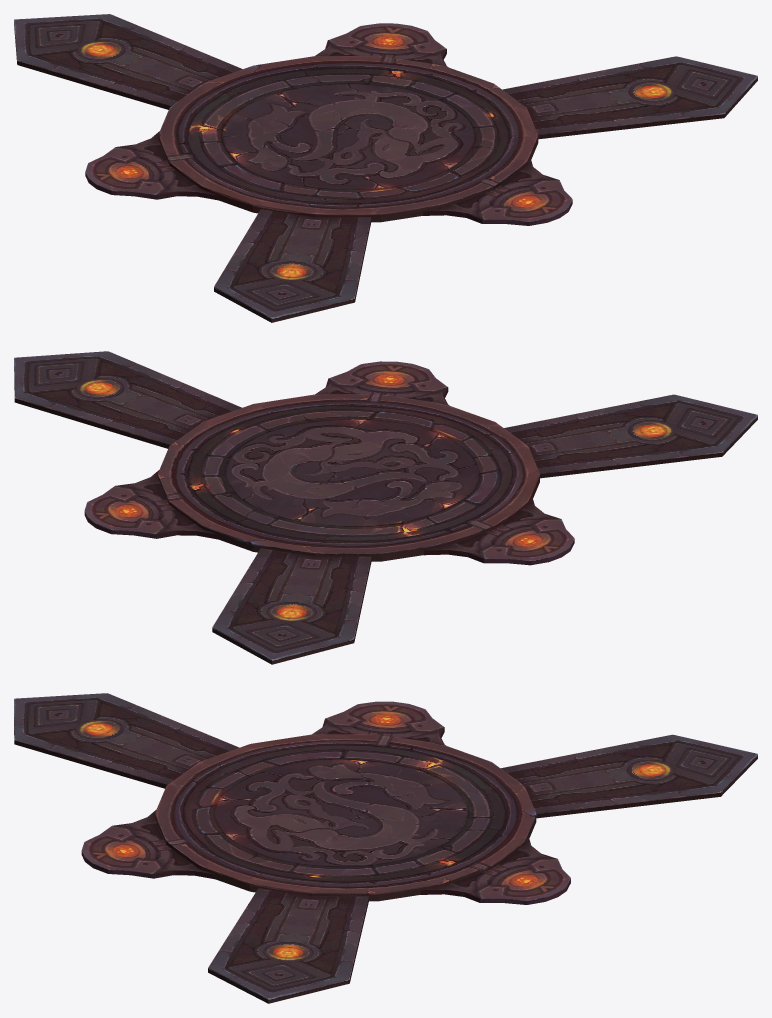
Rendered from rongyan_zujian_01_a.FBX.
3 renders of one model, top to bottom at view 1: azimuth 30°, elevation 25°; view 2: azimuth 150°, elevation 25°; view 3: azimuth 270°, elevation 25°, orthographic.
Visible parts, largest first — view 1: rongyan_zujian_01; view 2: rongyan_zujian_01; view 3: rongyan_zujian_01.
Part boxes in pixels (x1,y1,x2,y2): rongyan_zujian_01: [14, 14, 757, 322]; rongyan_zujian_01: [14, 351, 757, 664]; rongyan_zujian_01: [14, 693, 757, 1003].
Size of the model in its own units: 956 by 11.78 by 983.
